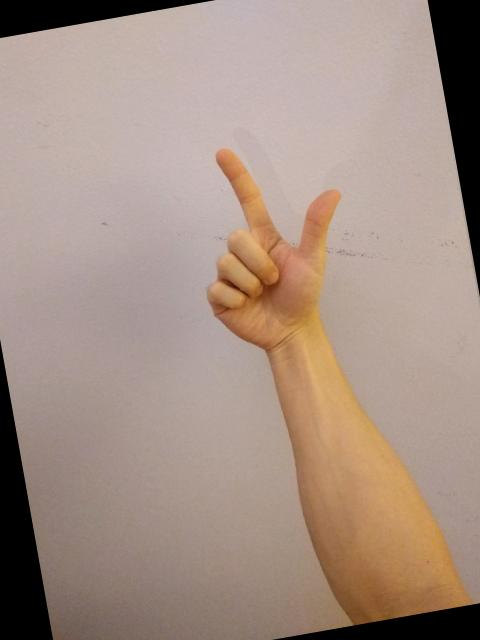L: (177, 124, 369, 360)
